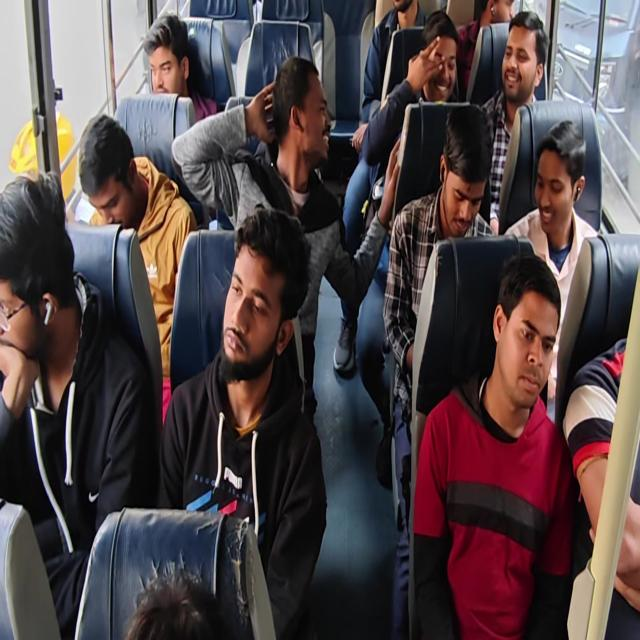person: (0, 182, 67, 390), (217, 234, 276, 380), (77, 127, 149, 237), (495, 291, 552, 412), (274, 64, 337, 158), (442, 124, 485, 241), (536, 136, 574, 242), (143, 26, 194, 100), (421, 26, 456, 103), (503, 20, 535, 104), (472, 0, 516, 34), (386, 0, 425, 23)
